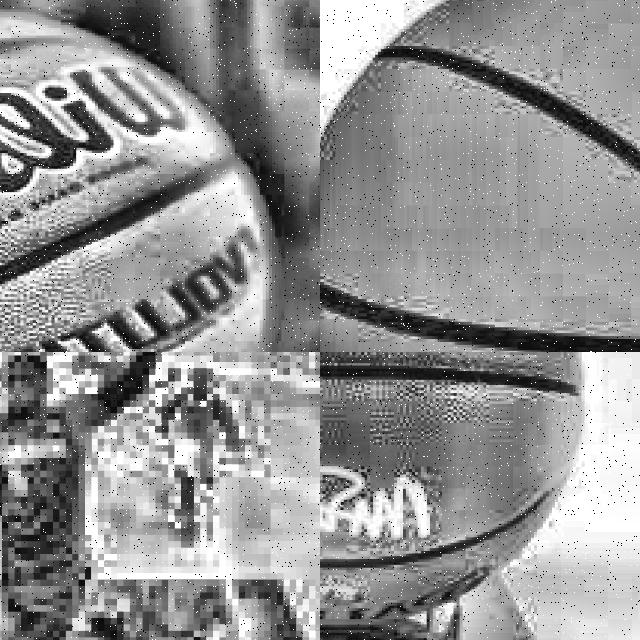Basketball: (320, 0, 640, 352), (0, 13, 275, 352), (320, 352, 582, 619)
